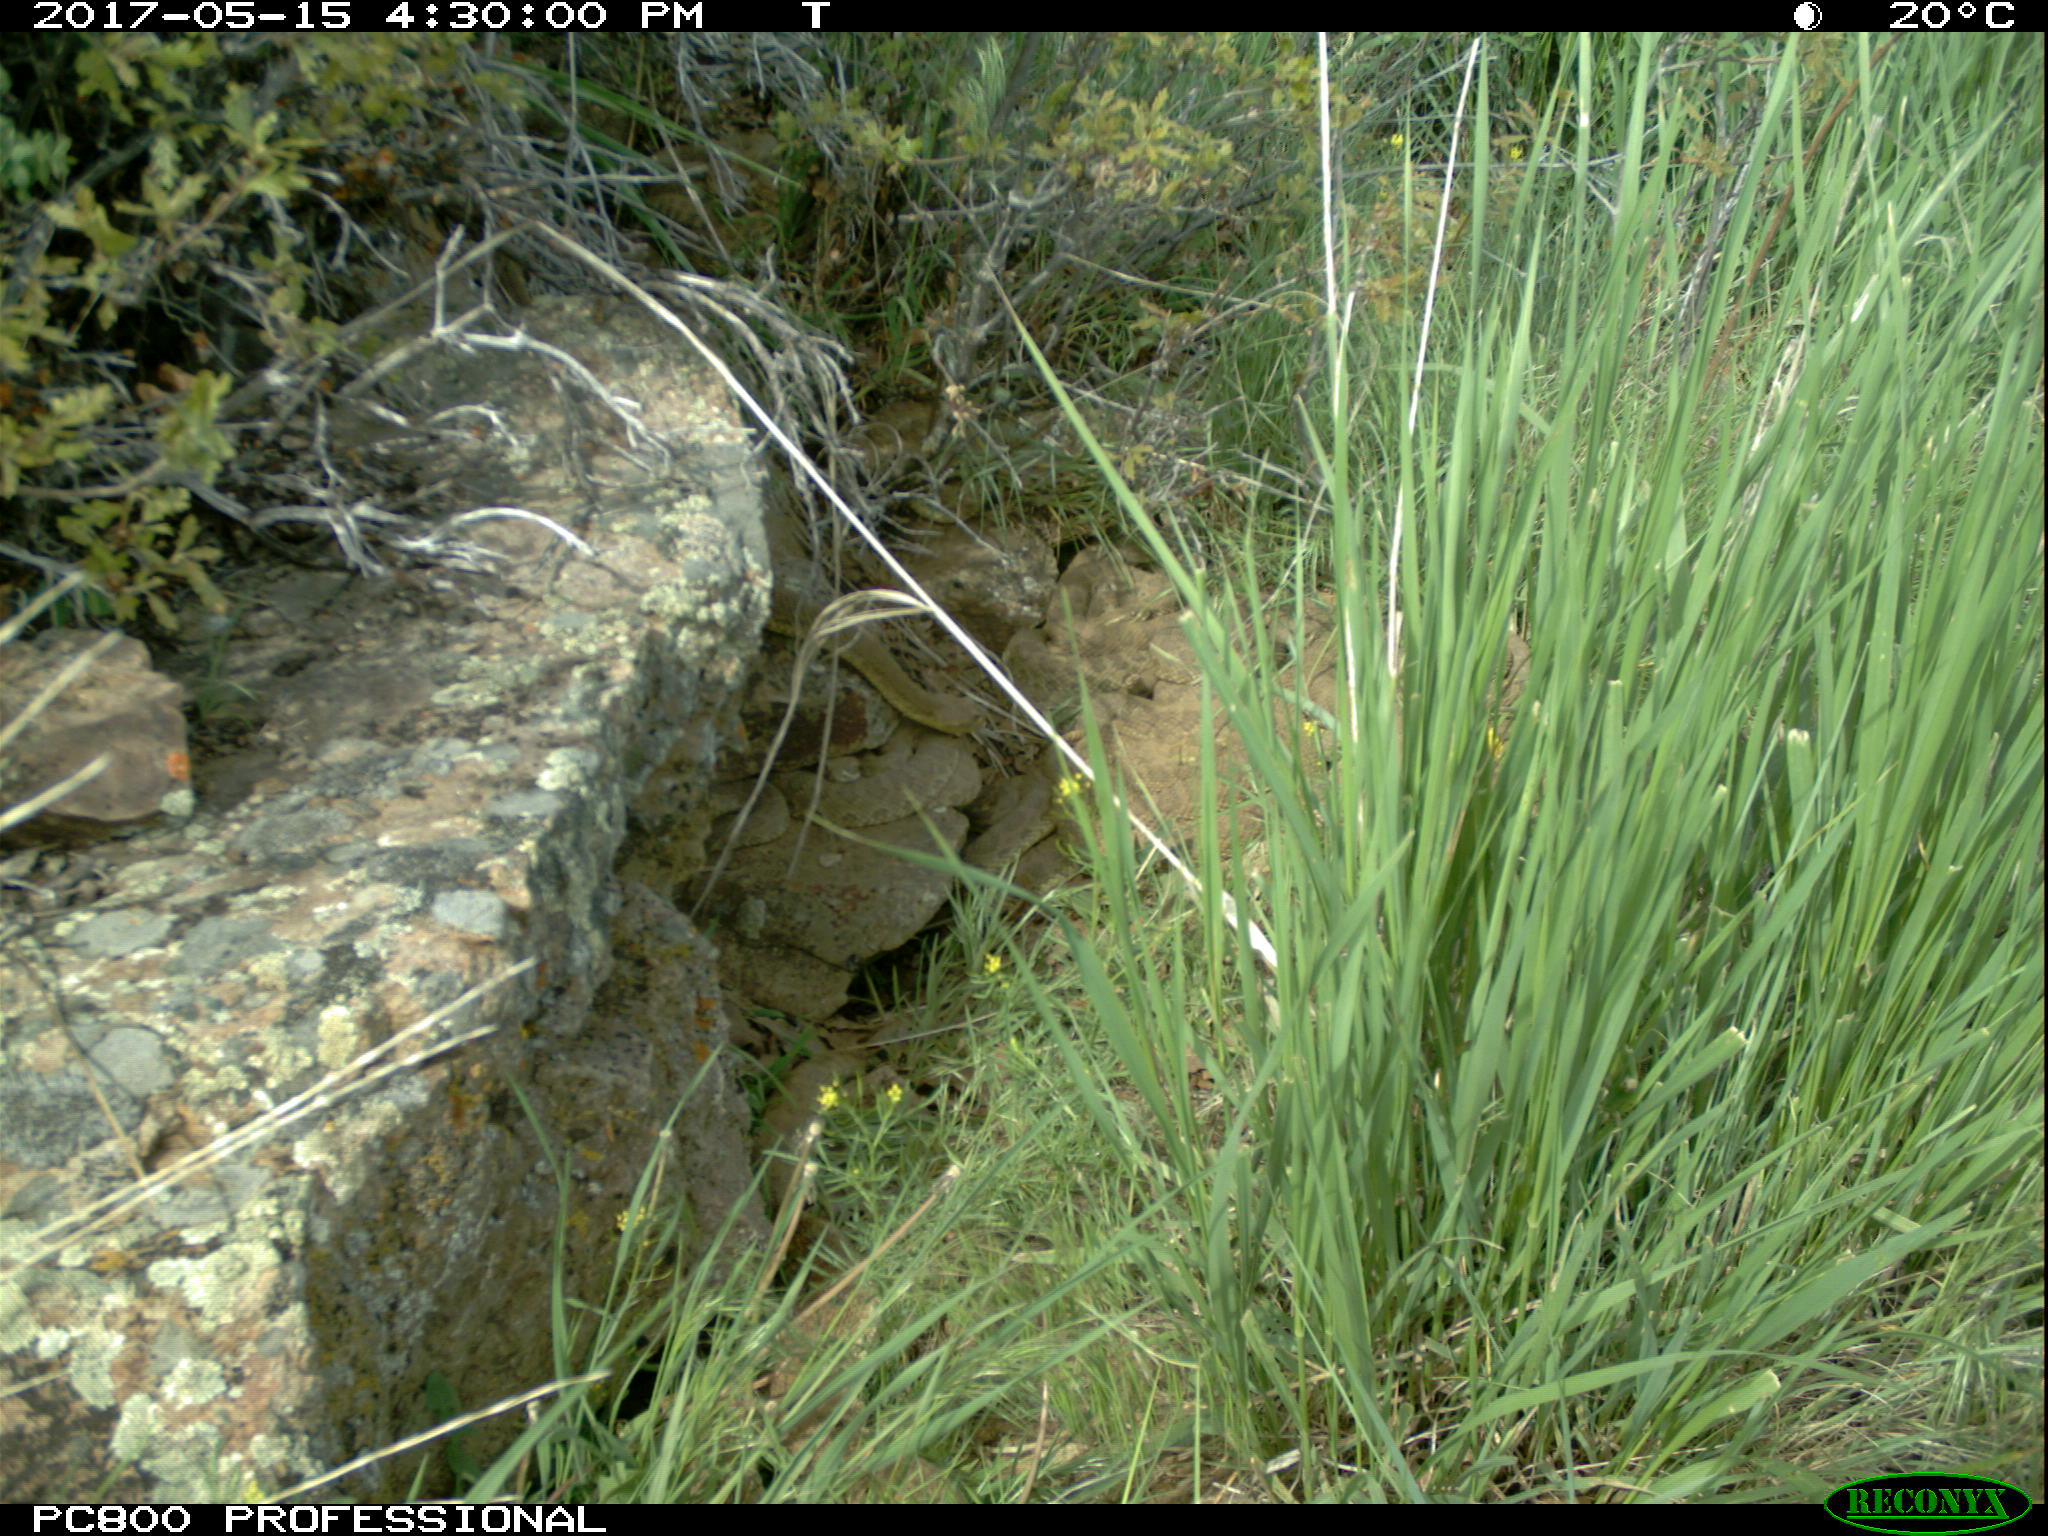snake: (1051, 699, 1255, 871), (763, 599, 985, 736), (634, 137, 785, 237), (774, 744, 972, 818), (751, 1050, 847, 1200), (1271, 611, 1347, 784), (1051, 550, 1184, 645), (956, 770, 1055, 884), (695, 779, 789, 845), (905, 474, 985, 526)
